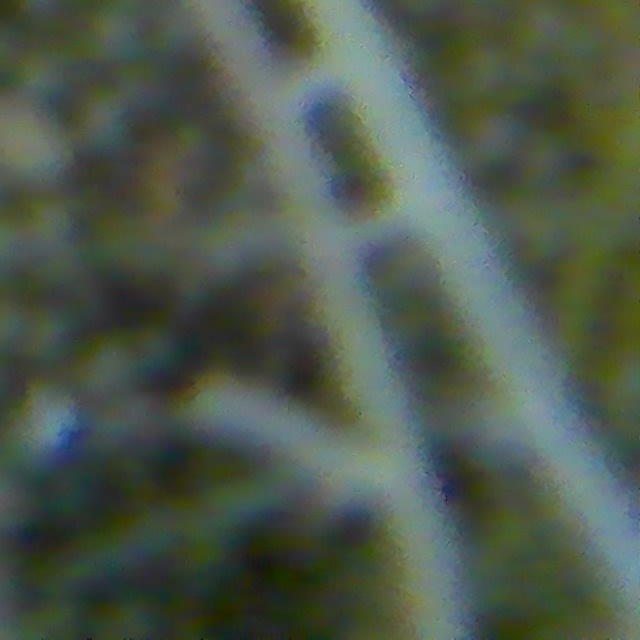SeaGrape: (0, 111, 72, 189)
